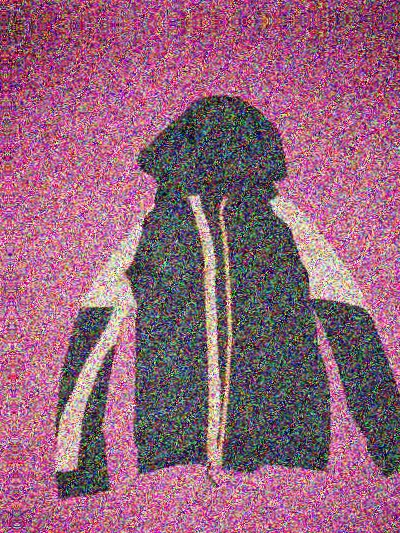Hoodie: (19, 97, 400, 507), (0, 108, 3, 518)
